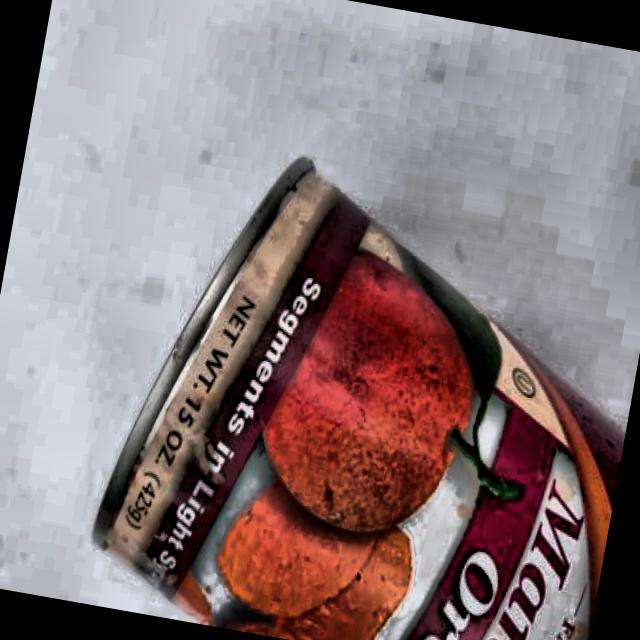metal: (78, 133, 640, 640)
